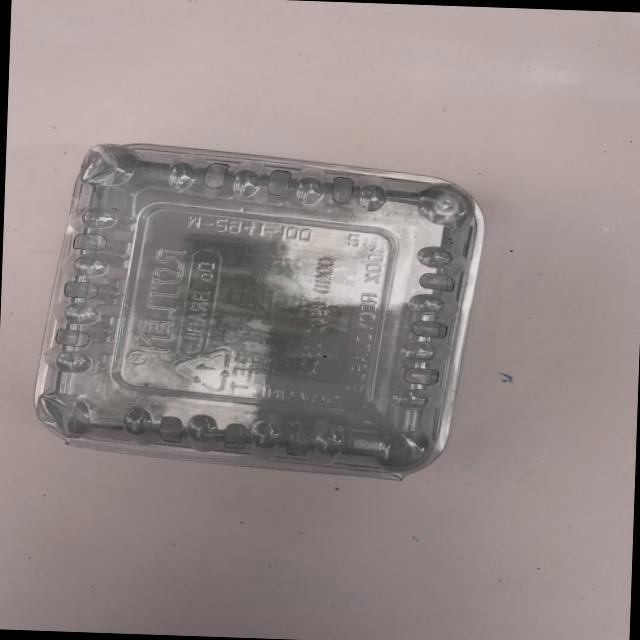plastic: (32, 116, 512, 516)
